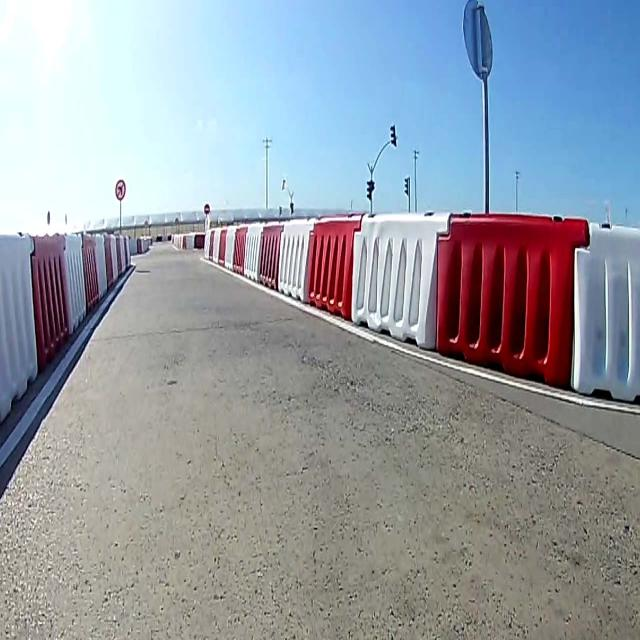soladonulmez: (115, 178, 125, 202)
